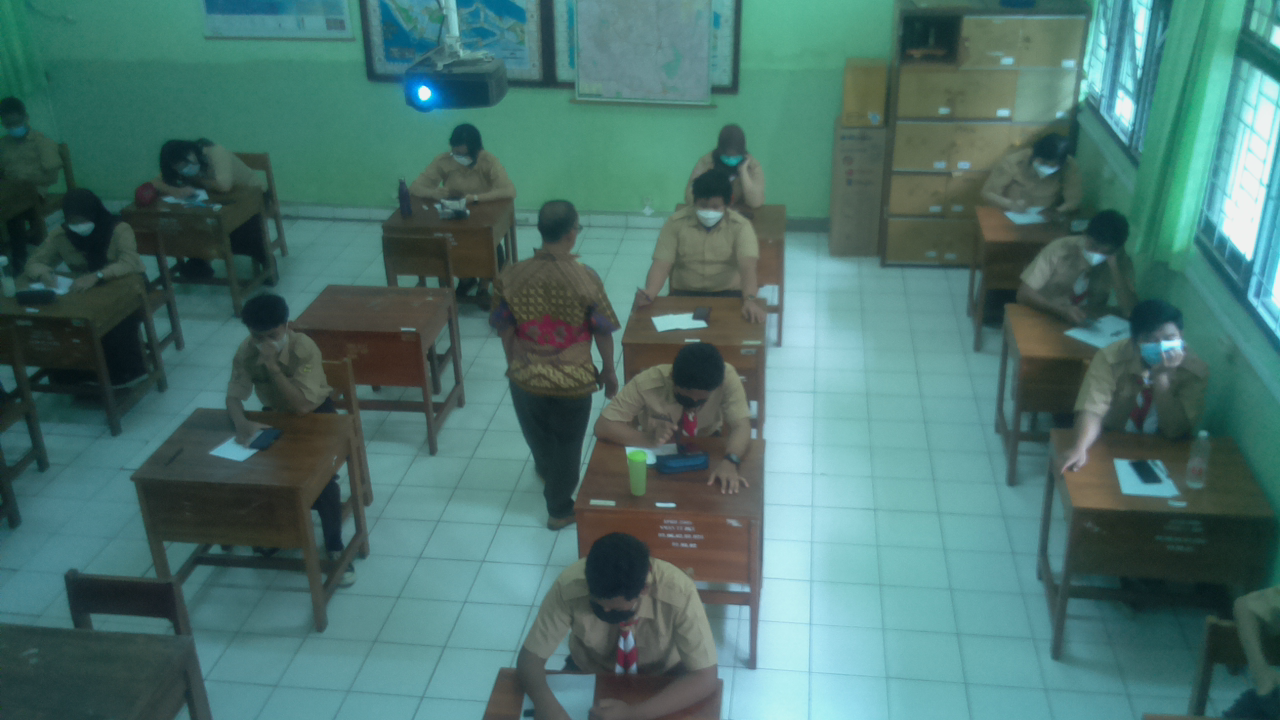Student: (551, 529, 706, 669), (499, 195, 612, 370), (1099, 313, 1214, 437), (613, 343, 743, 437), (225, 289, 328, 405), (665, 179, 755, 292), (1045, 213, 1133, 310), (51, 189, 140, 277), (989, 131, 1086, 205), (419, 123, 510, 197), (0, 91, 64, 182), (691, 125, 758, 202), (163, 137, 251, 189)
